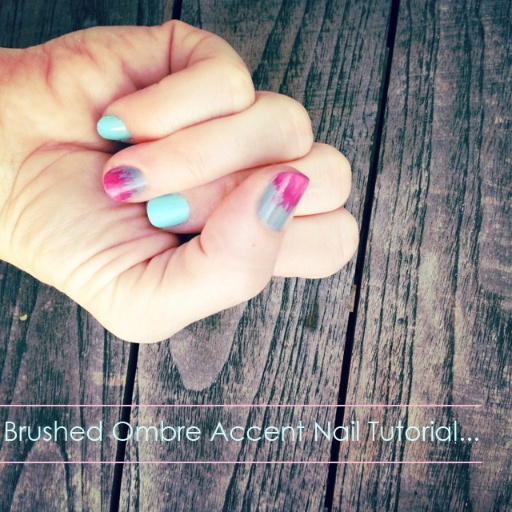hand: (0, 12, 359, 342)
